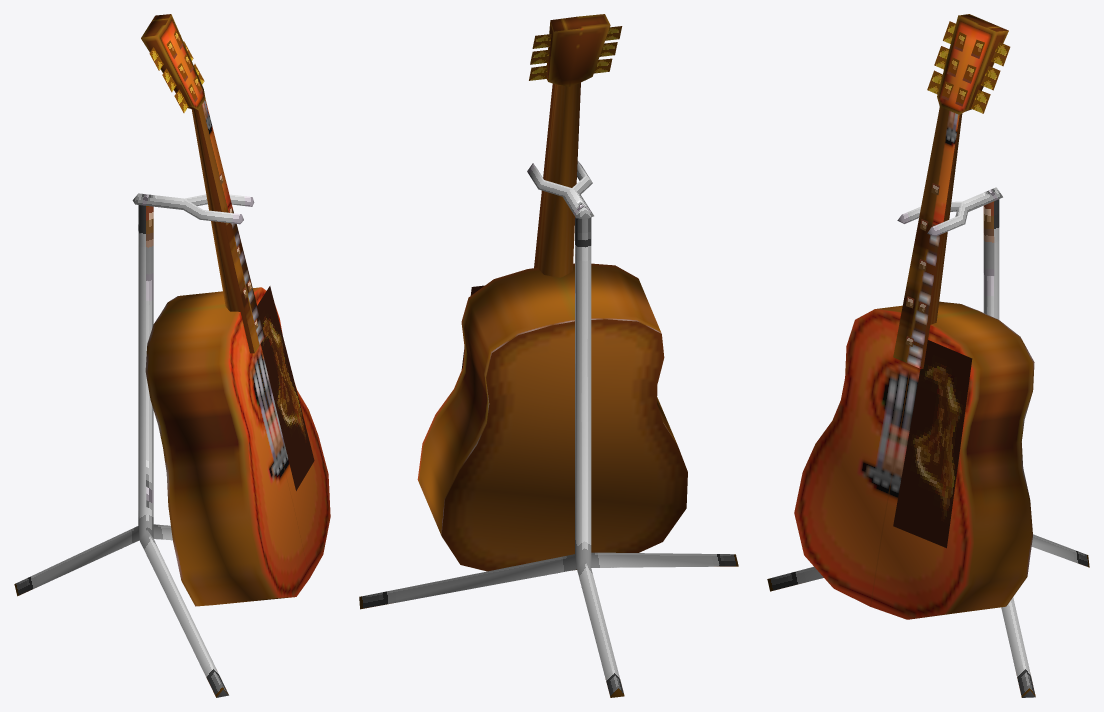
Rendered from int_gtr_Agtr02.dae.
3 renders of one model, left to right at view 1: azimuth 30°, elevation 25°; view 2: azimuth 150°, elevation 25°; view 3: azimuth 270°, elevation 25°, orthographic. The views are drawn at different scales.
Visible parts, largest first — view 1: int_gtr_Agtr02; view 2: int_gtr_Agtr02; view 3: int_gtr_Agtr02.
Boxes of the visible parts, x1,y1,x2,y2 form: int_gtr_Agtr02: (14, 14, 330, 697); int_gtr_Agtr02: (359, 14, 738, 697); int_gtr_Agtr02: (767, 14, 1089, 697).
Bounding box in the file's own units: 22.7 × 45.8 × 22.8.
3 materials, 3 textured.
